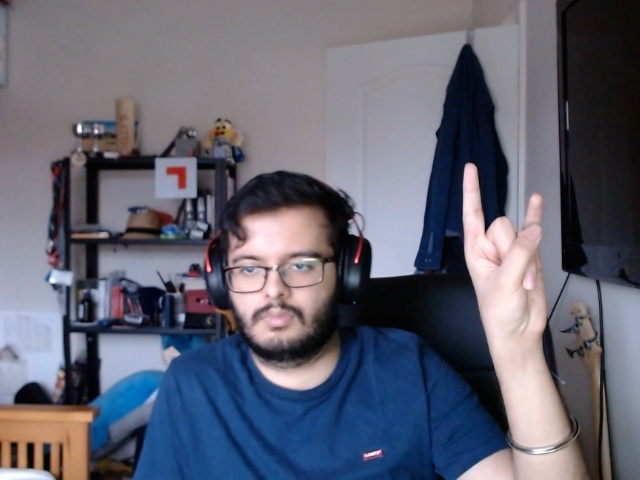Rock on: (448, 157, 576, 372)
